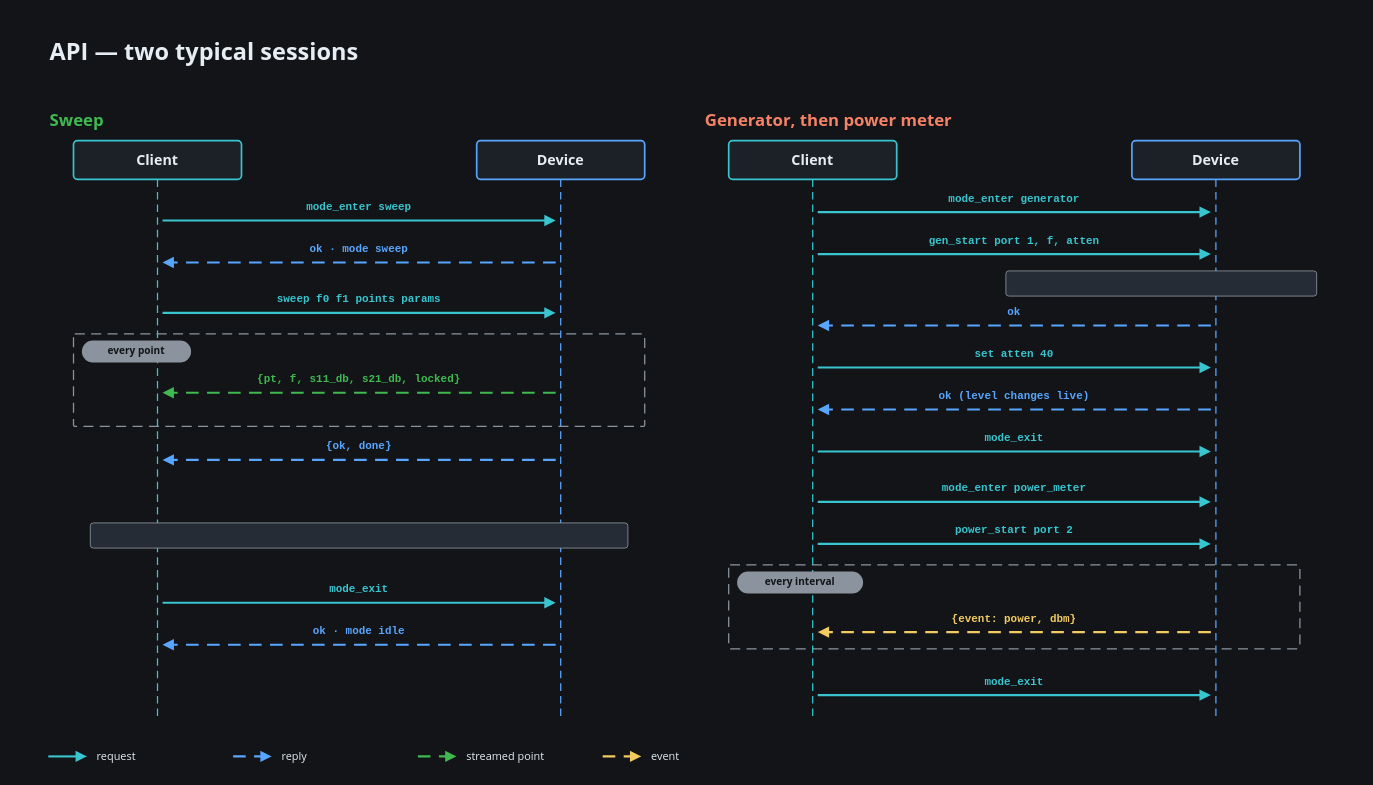
Some shapes in this 1373 by 785 pixel diagram are drawn without their labels. The shapes that lost their labels are listed below. From the top down, each one's centre as x and y in pixels, then its label:
point 1161,283: park → tune → wait lock → route
point 358,535: more sweeps … status / set / abort allowed meanwhile
